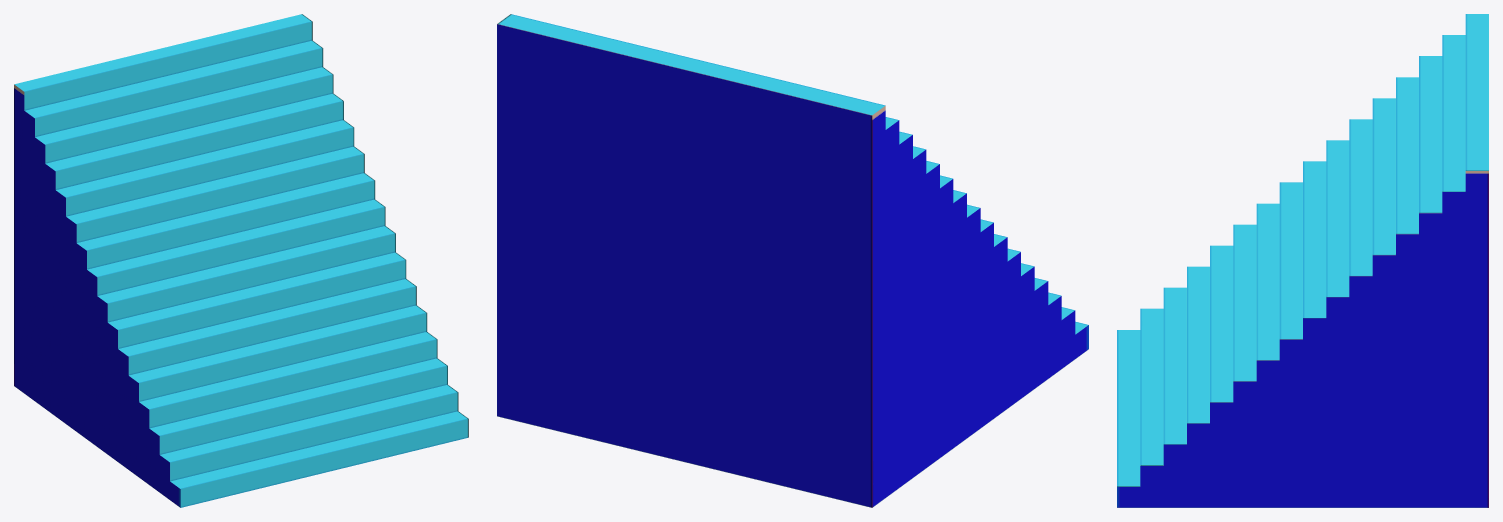
The model's file is MK_Stairs_Trim_B_Wall_E.fbx.
3 views of the same model, side by side, from view 1: azimuth 30°, elevation 25°; view 2: azimuth 150°, elevation 25°; view 3: azimuth 270°, elevation 25° (orthographic). The views are drawn at different scales.
Visible parts, largest first — view 1: Stairs_Trim_B_Wall_E; view 2: Stairs_Trim_B_Wall_E; view 3: Stairs_Trim_B_Wall_E.
Part boxes in pixels (x1=…): Stairs_Trim_B_Wall_E: x1=14, y1=14, x2=468, y2=507; Stairs_Trim_B_Wall_E: x1=497, y1=14, x2=1088, y2=507; Stairs_Trim_B_Wall_E: x1=1117, y1=14, x2=1488, y2=507.
Bounding box in the file's own units: 180 × 180 × 180.
Materials: 1 (1 with a texture image).
